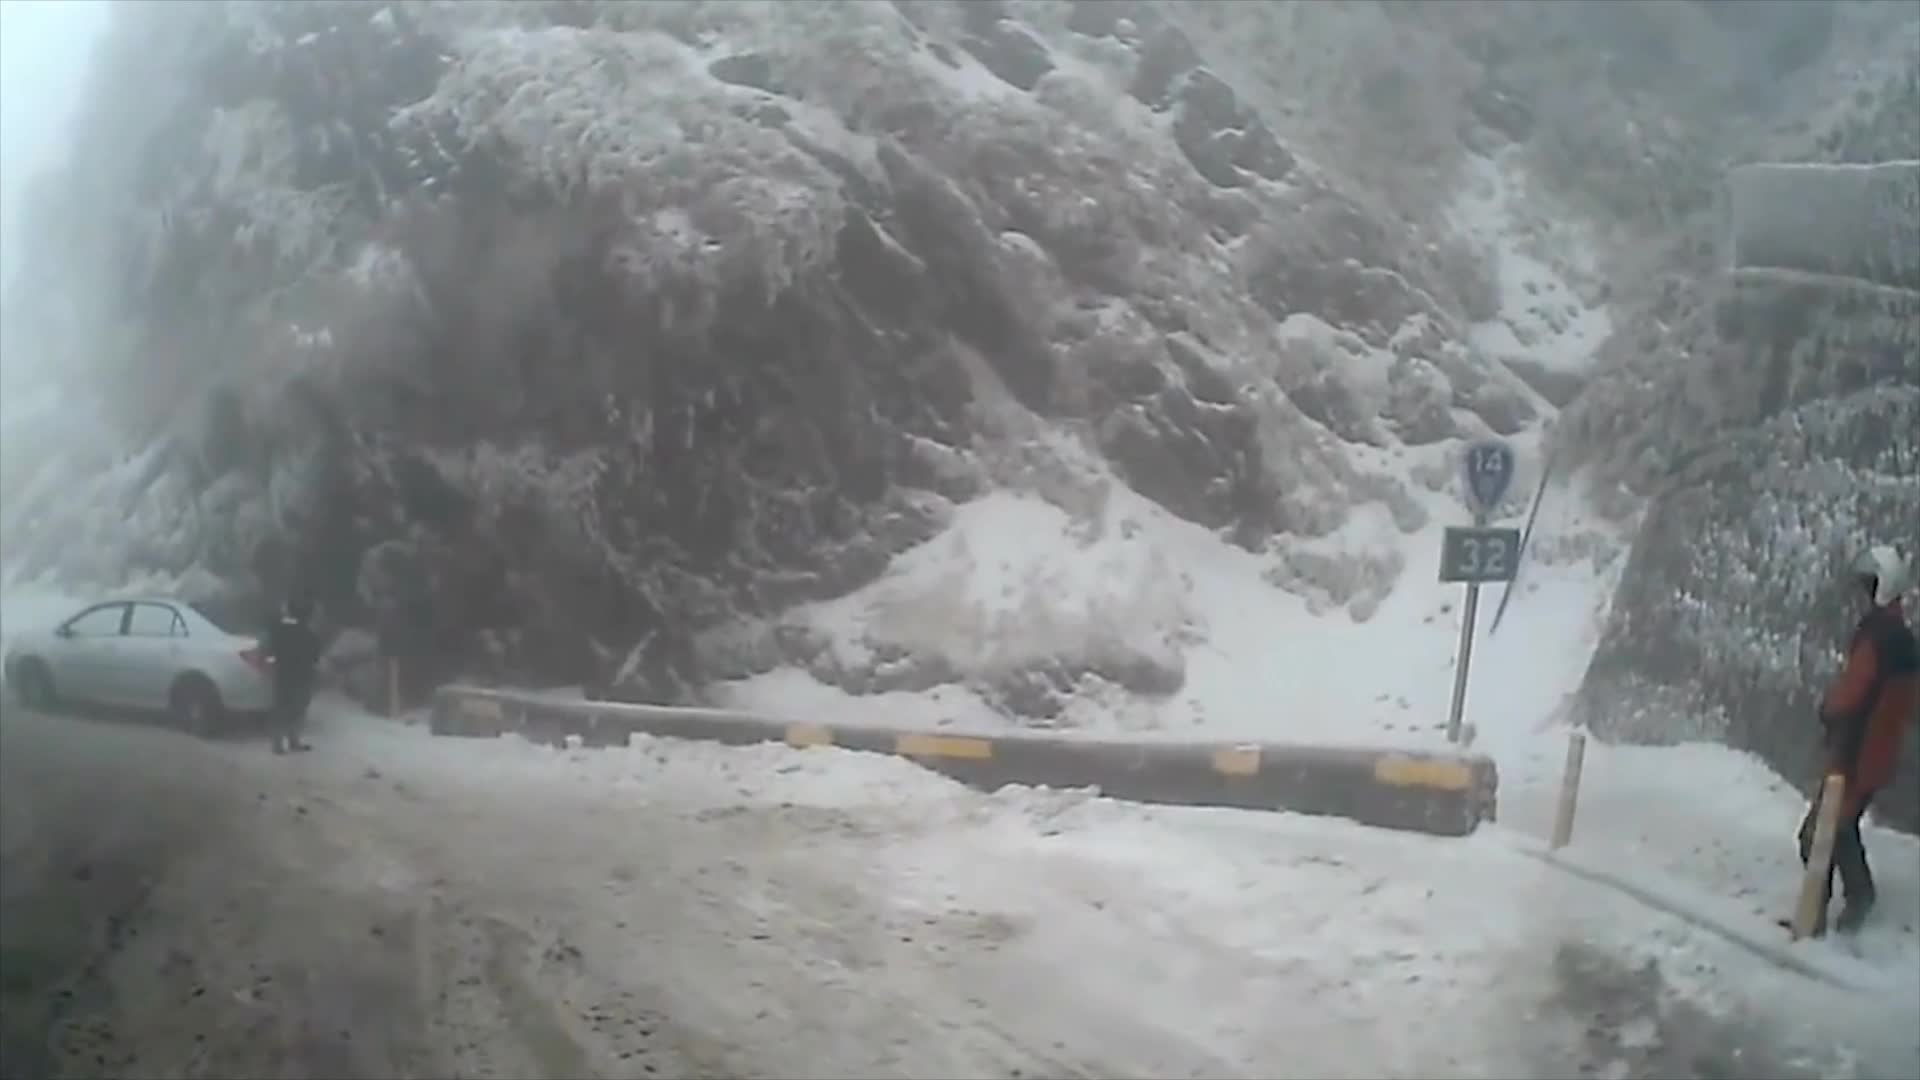pedestrian: (1771, 542, 1920, 943), (261, 587, 321, 752)
vehicle: (1, 589, 297, 735)
